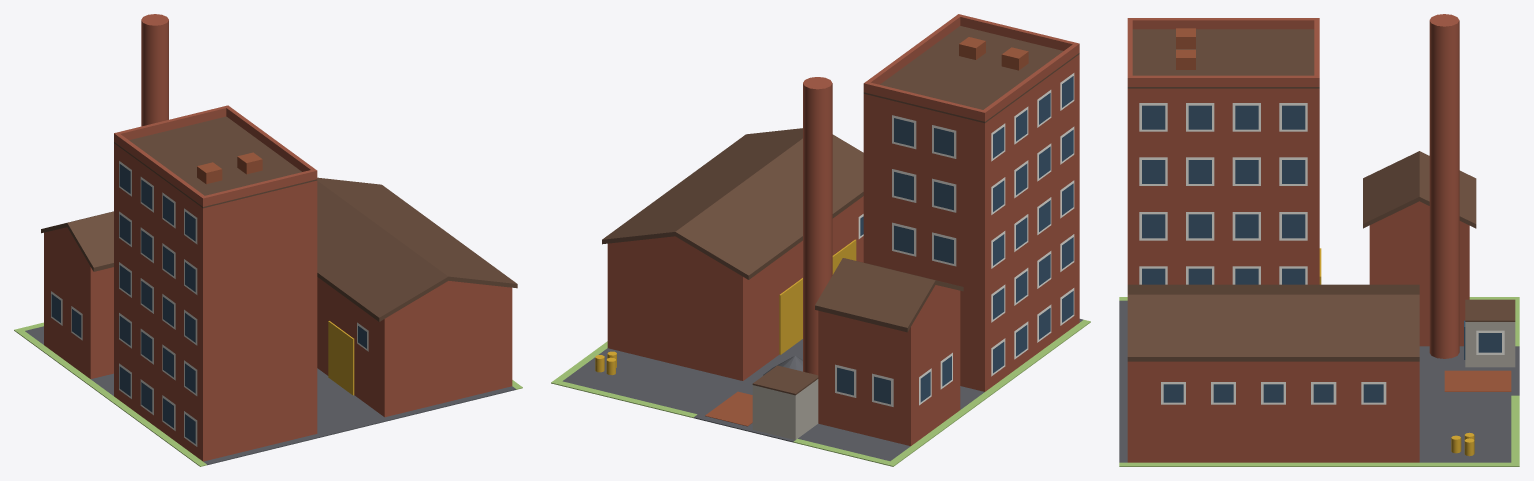
The picture shows the model from 3 angles, left to right: view 1: azimuth 30°, elevation 25°; view 2: azimuth 150°, elevation 25°; view 3: azimuth 270°, elevation 25°; orthographic projection. The views are drawn at different scales.
Visible parts, largest first — view 1: works, roof (×4), shed, boiler_house, parapet (×4), asphalt, smoke_stack, gable (×2), garage_door, lawn; view 2: works, roof (×5), shed, boiler_house, asphalt, smoke_stack, parapet (×4), weighbridge_office, lawn (×2), gable (×2), garage_door, weighbridge; view 3: roof (×6), shed, works, smoke_stack, asphalt, window_glass (×13), boiler_house, parapet (×4), lawn (×2), weighbridge_office, weighbridge, gable (+1 smaller).
Boxes of the visible parts, left/top/right/bottom form: works: left=114, top=143, right=317, bottom=461; roof (×4): left=67, top=116, right=517, bottom=321; shed: left=317, top=277, right=512, bottom=417; boiler_house: left=44, top=233, right=113, bottom=379; parapet (×4): left=114, top=105, right=317, bottom=206; asphalt: left=25, top=326, right=516, bottom=465; smoke_stack: left=141, top=14, right=168, bottom=126; gable (×2): left=44, top=227, right=511, bottom=318; garage_door: left=328, top=321, right=354, bottom=395; lawn: left=14, top=328, right=206, bottom=466; works: left=863, top=54, right=1079, bottom=391; roof (×5): left=602, top=26, right=1079, bottom=395; shed: left=607, top=196, right=863, bottom=380; boiler_house: left=818, top=291, right=960, bottom=446; asphalt: left=562, top=319, right=1083, bottom=461; smoke_stack: left=803, top=77, right=832, bottom=375; parapet (×4): left=863, top=14, right=1079, bottom=121; weighbridge_office: left=752, top=379, right=818, bottom=439; lawn (×2): left=558, top=320, right=1090, bottom=466; gable (×2): left=608, top=236, right=959, bottom=326; garage_door: left=779, top=278, right=802, bottom=354; weighbridge: left=705, top=391, right=752, bottom=426; roof (×6): left=1127, top=29, right=1515, bottom=361; shed: left=1127, top=361, right=1419, bottom=462; works: left=1127, top=88, right=1319, bottom=284; smoke_stack: left=1429, top=14, right=1459, bottom=358; asphalt: left=1119, top=300, right=1511, bottom=462; window_glass (×13): left=1142, top=105, right=1501, bottom=352; boiler_house: left=1369, top=225, right=1469, bottom=346; parapet (×4): left=1127, top=18, right=1319, bottom=86; lawn (×2): left=1119, top=395, right=1519, bottom=466; weighbridge_office: left=1465, top=322, right=1515, bottom=367; weighbridge: left=1444, top=370, right=1511, bottom=391; gable: left=1370, top=201, right=1468, bottom=225.
Bounding box in the file's own units: 24 × 22.06 × 24.
